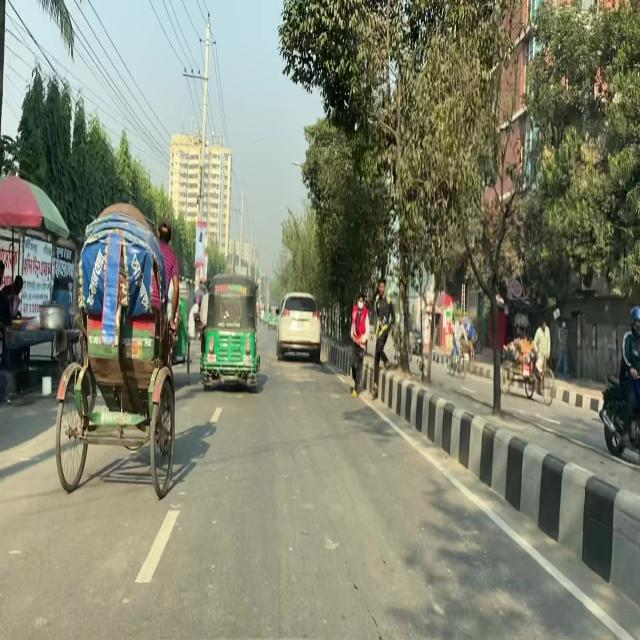car: (275, 290, 324, 366)
motorbike: (599, 347, 640, 469)
